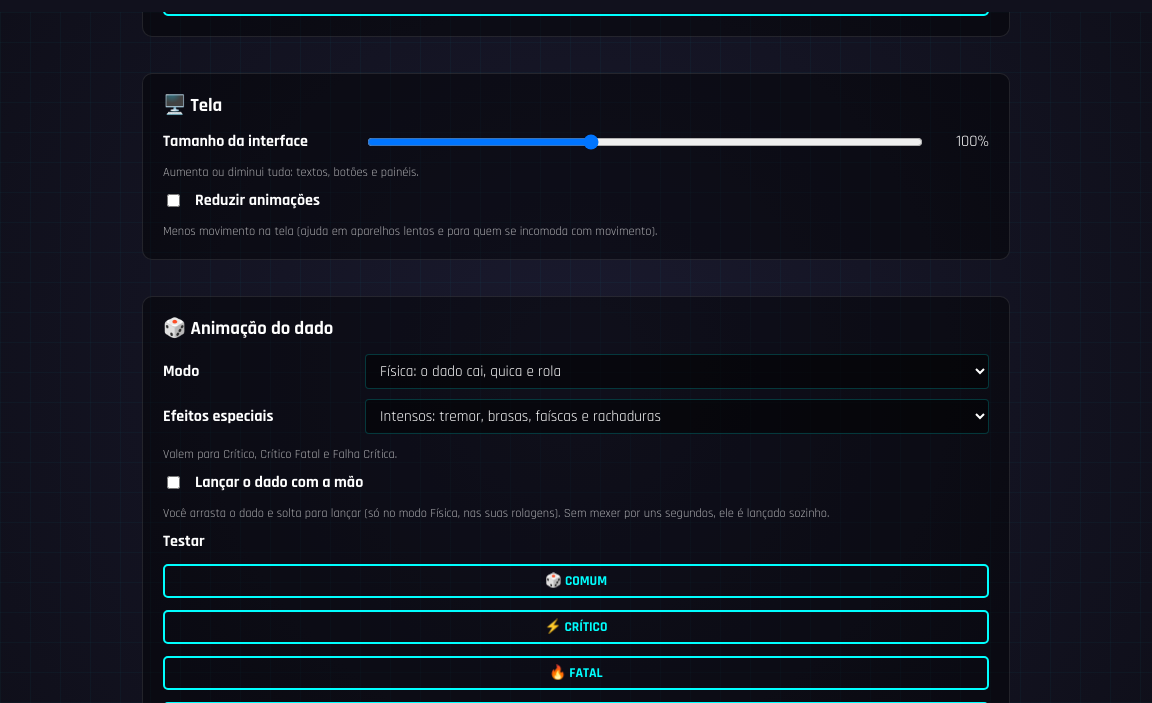
Test: ConfiguracoesPanel - animacao do dado › checkbox da mao grava dadoMao e fica desabilitado fora do modo fisica
(page scrolled)
Click the checkbox labelled "Lançar o dado com a mão" at (174, 482), box [167,476,180,489]
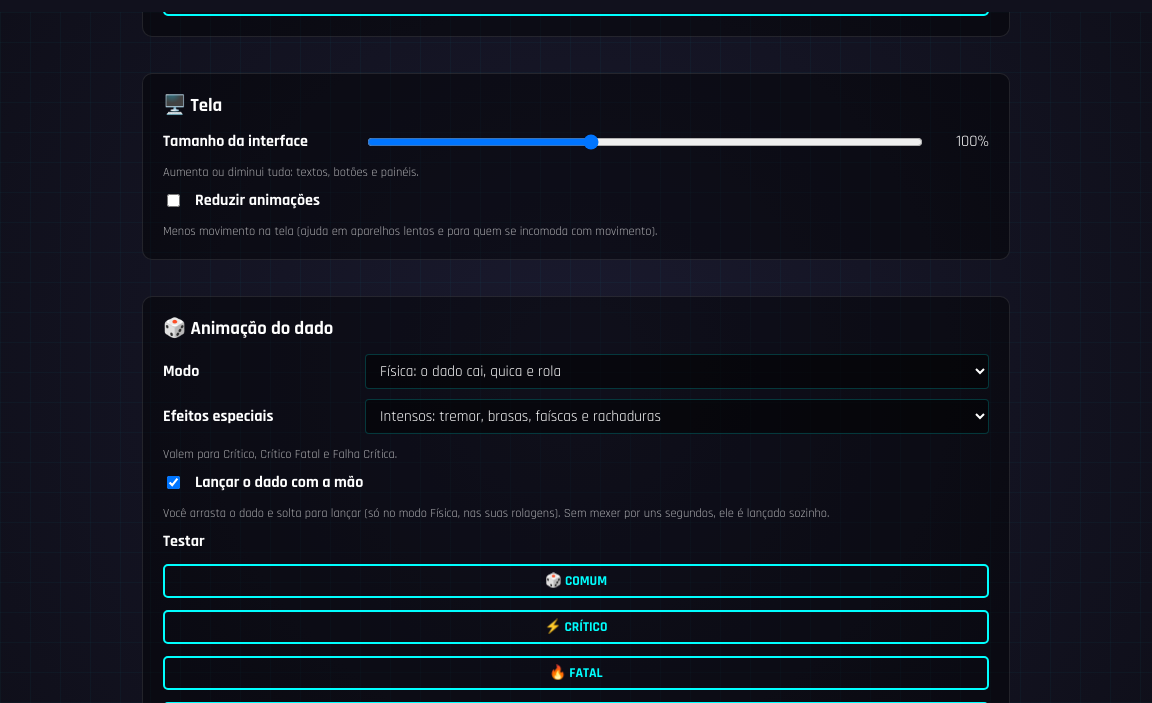
Select "Desligada: só o resultado no Feed" in the dropdown named "Modo da animação do dado" at (677, 372), box [365,354,989,389]
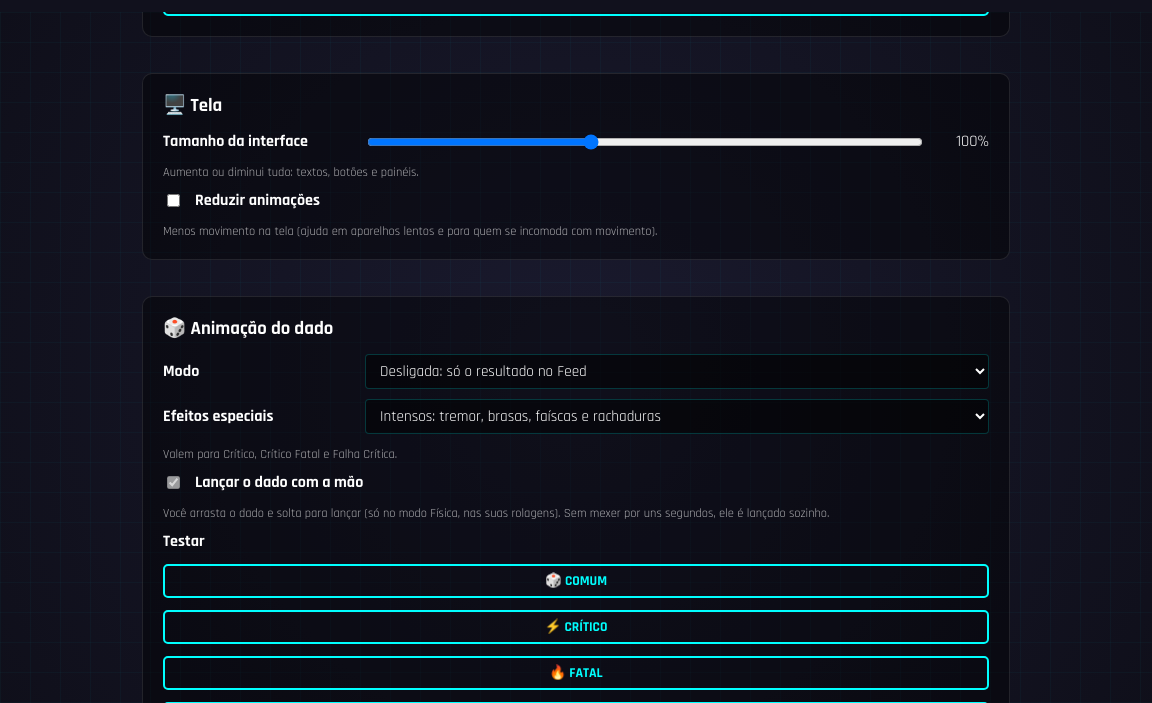
Expected: the checkbox labelled "Lançar o dado com a mão" is disabled, [167,476,180,489]
